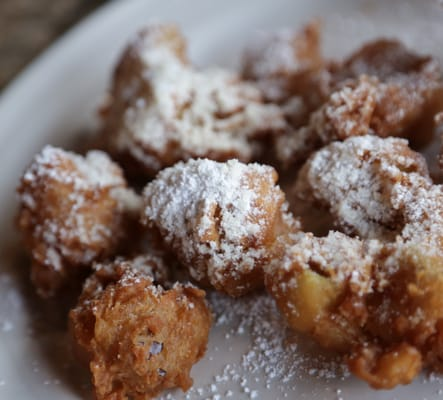salad: (269, 135, 443, 390), (141, 158, 284, 301), (67, 255, 211, 397), (16, 144, 143, 305)
